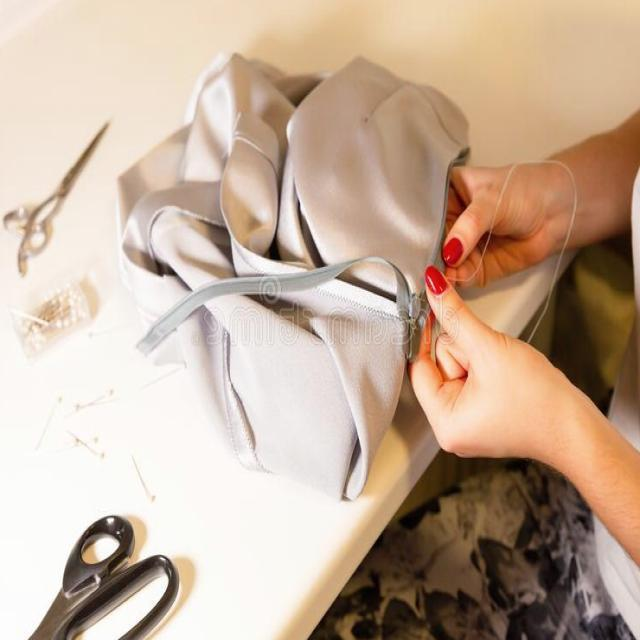clothes: (100, 66, 413, 434)
